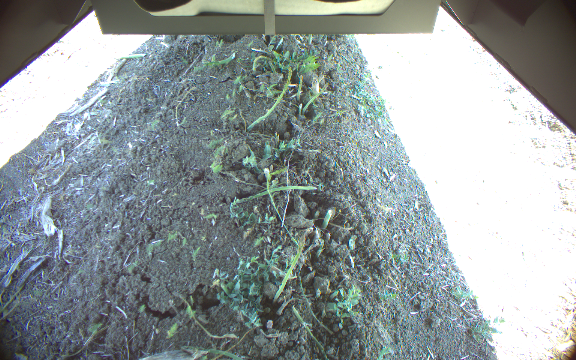aspa: (246, 66, 292, 133), (271, 233, 308, 305), (299, 82, 329, 113), (294, 74, 304, 103)
